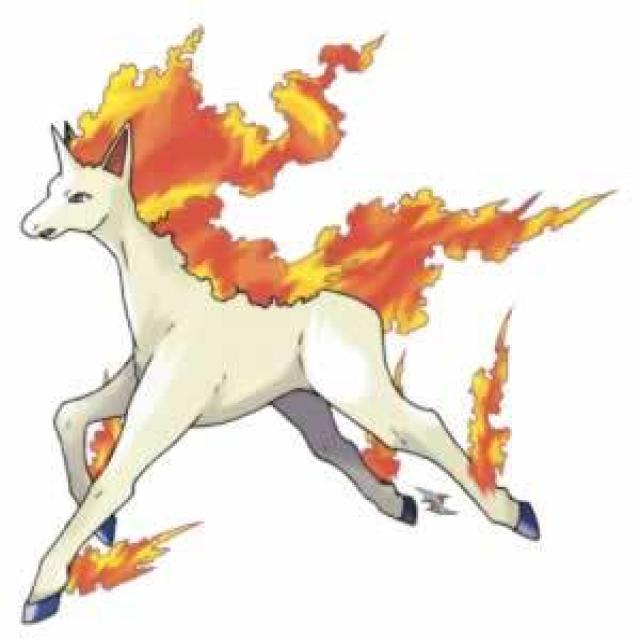Rapidash: (23, 115, 517, 535)
